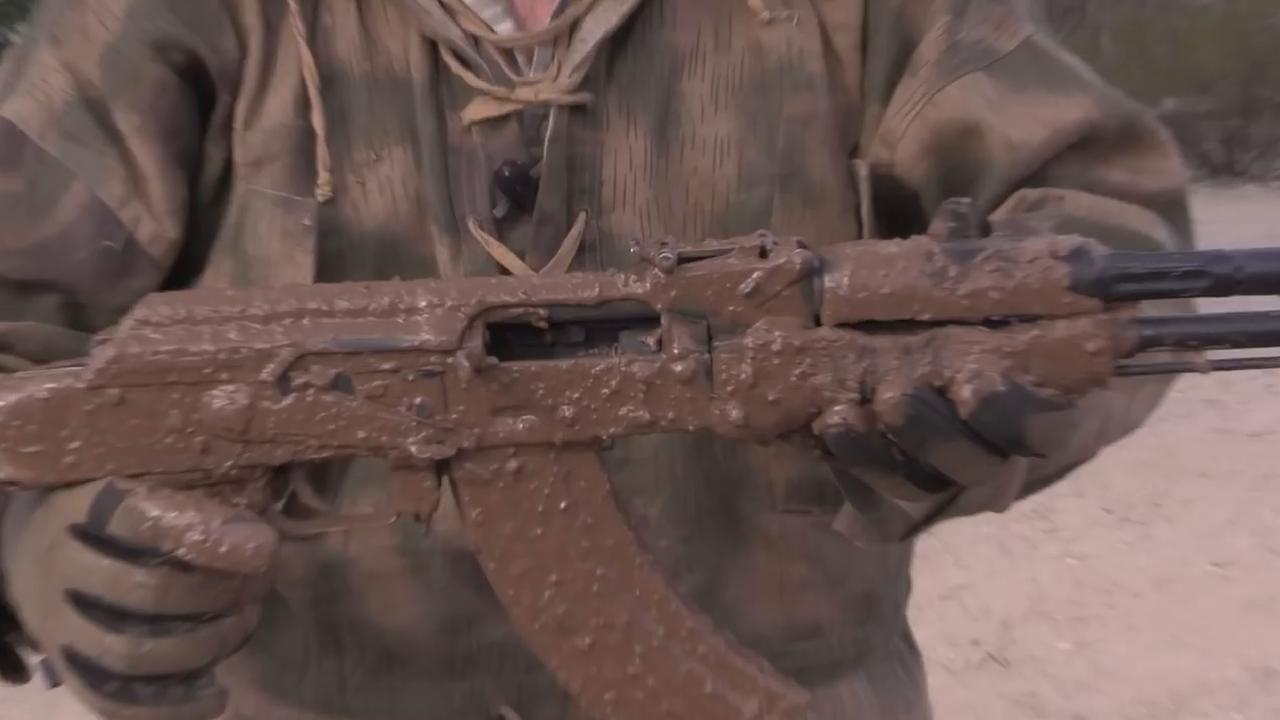AK47 Rifle: (4, 201, 1280, 716)
